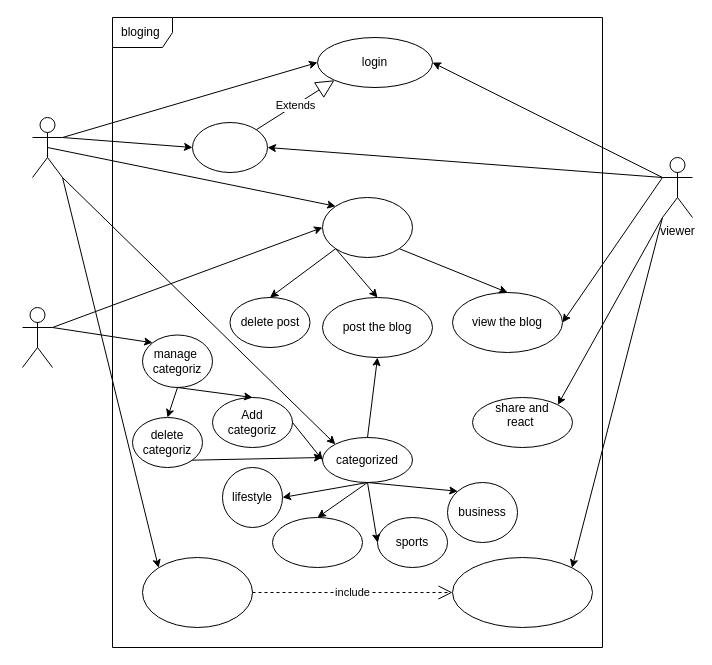
This 712x665 diagram has some shape labels left out. The shapes that lost their labels are listed below. From the top down, each one's centre as x and y in pixels, then its label:
(47,147): writter
(230,147): sign up
(367,227): manage post
(37,337): System Admin
(317,542): entertainment
(197,592): reply to comment
(522,592): comment
